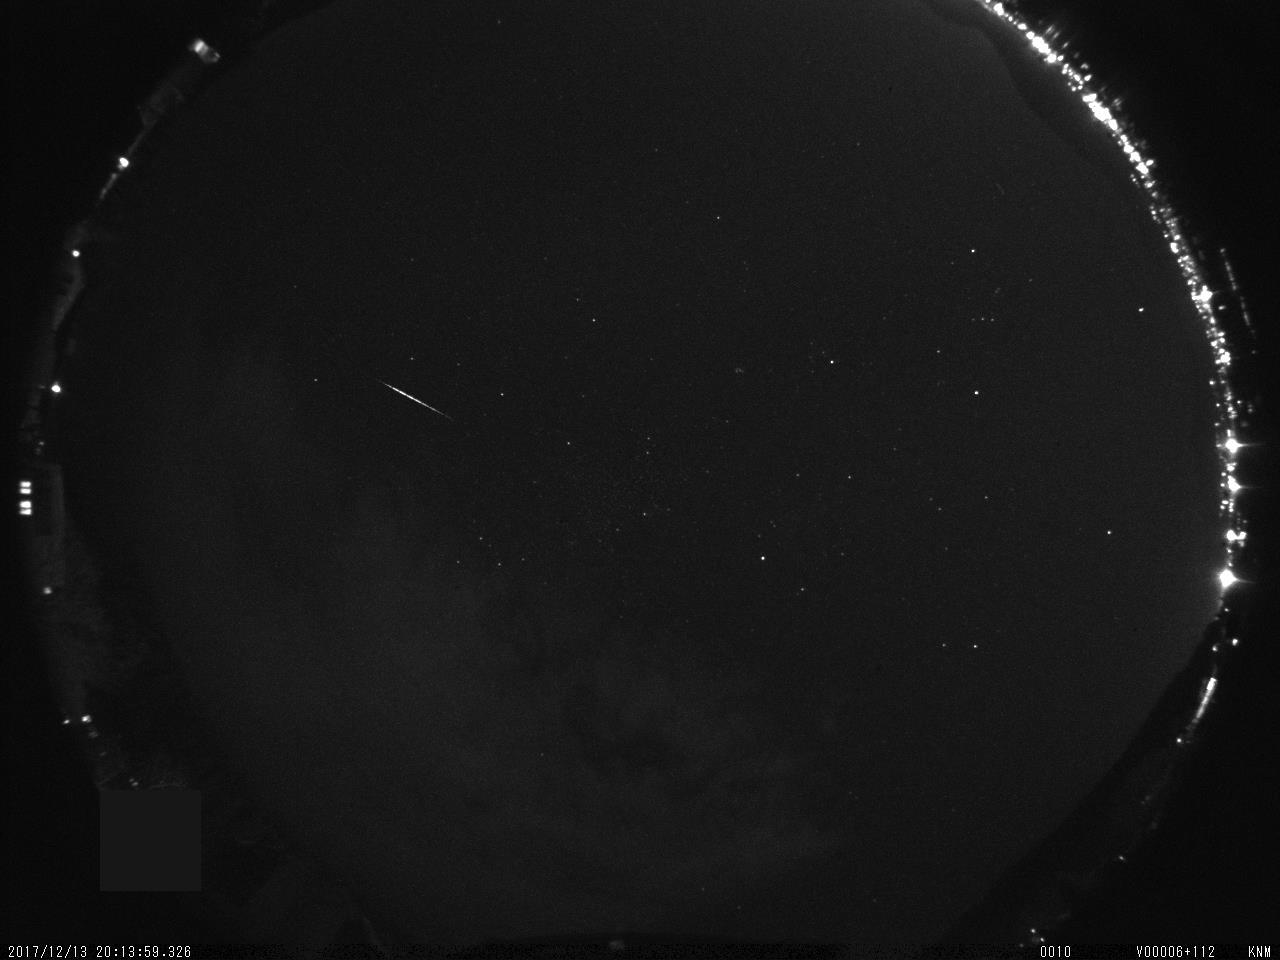meteor: (360, 373, 464, 438)
